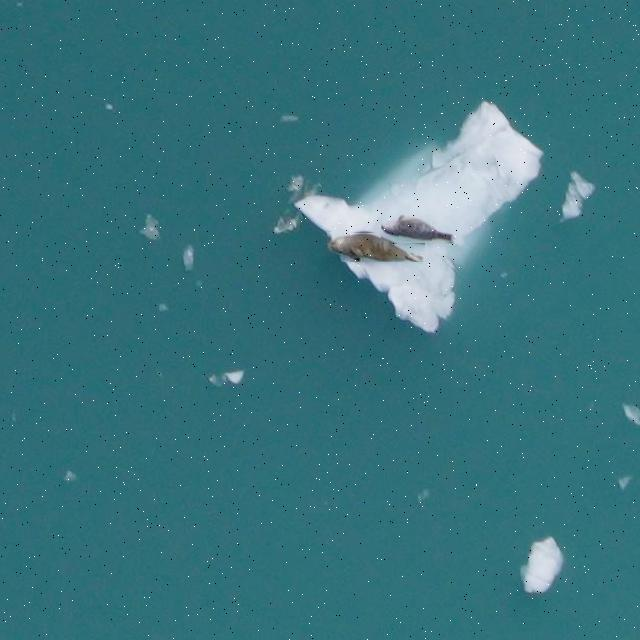seal: (328, 233, 425, 262), (380, 211, 456, 248)
